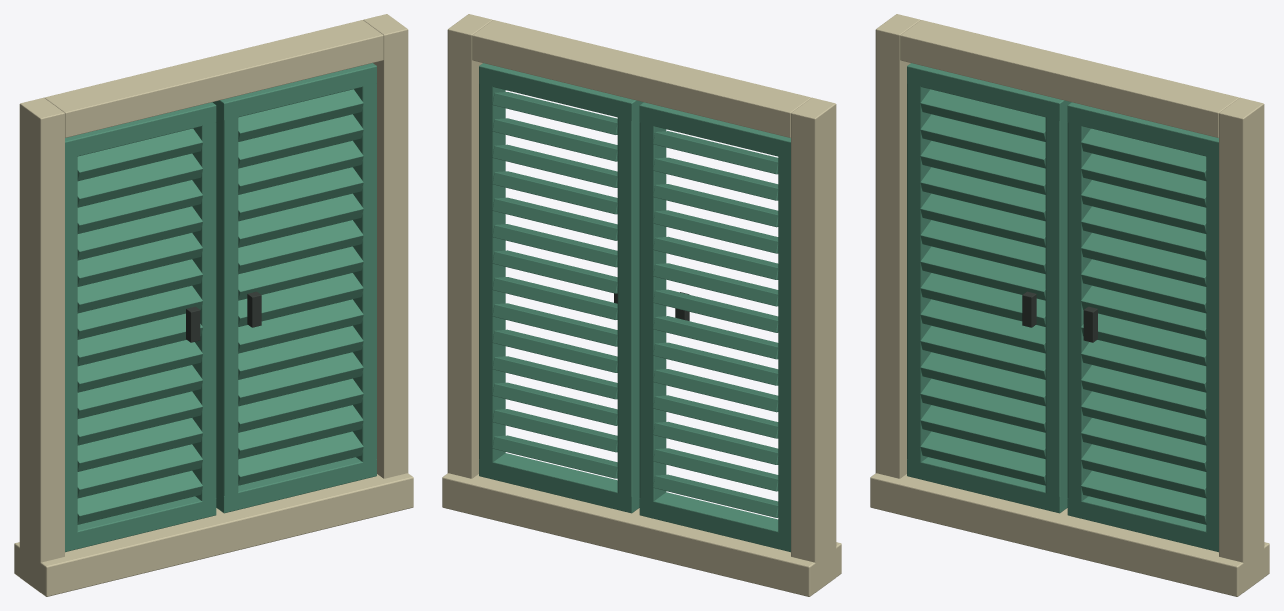
3 views of the same model, side by side, from view 1: azimuth 30°, elevation 25°; view 2: azimuth 150°, elevation 25°; view 3: azimuth 330°, elevation 25° (orthographic).
Visible parts, largest first — view 1: FRAME_Jamb, FRAME_Sill, FRAME_Head, FRAME_Jamb.001, Right_Stile.001, Right_Stile, Left_Stile.001, Left_Stile, Left_Rail, Right_Rail, Left_Rail.001, Left_Louver_12 (+28 smaller); view 2: FRAME_Jamb, FRAME_Sill, FRAME_Head, FRAME_Jamb.001, Right_Stile.001, Left_Stile.001, Right_Stile, Left_Stile, Right_Rail, Left_Rail, Right_Rail.001, Left_Rail.001 (+28 smaller); view 3: FRAME_Jamb.001, FRAME_Sill, FRAME_Head, FRAME_Jamb, Left_Stile.001, Left_Stile, Right_Stile.001, Right_Stile, Left_Rail, Right_Rail, Left_Rail.001, Right_Rail.001 (+28 smaller).
Boxes of the visible parts, bbox=[...] form: FRAME_Jamb: bbox=[19, 97, 64, 592]; FRAME_Sill: bbox=[14, 473, 413, 596]; FRAME_Head: bbox=[44, 20, 383, 137]; FRAME_Jamb.001: bbox=[363, 14, 408, 478]; Right_Stile.001: bbox=[212, 100, 238, 511]; Right_Stile: bbox=[353, 67, 376, 478]; Left_Stile.001: bbox=[192, 107, 216, 514]; Left_Stile: bbox=[65, 140, 77, 535]; Left_Rail: bbox=[65, 496, 216, 552]; Right_Rail: bbox=[216, 457, 376, 513]; Left_Rail.001: bbox=[65, 102, 216, 158]; Left_Louver_12: bbox=[77, 153, 202, 207]; FRAME_Jamb: bbox=[791, 97, 836, 592]; FRAME_Sill: bbox=[442, 473, 841, 596]; FRAME_Head: bbox=[472, 20, 811, 137]; FRAME_Jamb.001: bbox=[447, 14, 492, 478]; Right_Stile.001: bbox=[617, 100, 643, 511]; Left_Stile.001: bbox=[639, 108, 666, 514]; Right_Stile: bbox=[479, 67, 505, 478]; Left_Stile: bbox=[778, 140, 790, 549]; Right_Rail: bbox=[479, 453, 639, 513]; Left_Rail: bbox=[639, 492, 790, 552]; Right_Rail.001: bbox=[479, 63, 636, 120]; Left_Rail.001: bbox=[639, 102, 790, 158]; FRAME_Jamb.001: bbox=[1219, 97, 1264, 592]; FRAME_Sill: bbox=[870, 473, 1269, 596]; FRAME_Head: bbox=[900, 20, 1239, 137]; FRAME_Jamb: bbox=[875, 14, 920, 478]; Left_Stile.001: bbox=[1045, 100, 1071, 511]; Left_Stile: bbox=[907, 67, 930, 478]; Right_Stile.001: bbox=[1067, 108, 1091, 514]; Right_Stile: bbox=[1206, 140, 1218, 549]; Left_Rail: bbox=[907, 457, 1067, 513]; Right_Rail: bbox=[1067, 496, 1218, 552]; Left_Rail.001: bbox=[907, 63, 1064, 120]; Right_Rail.001: bbox=[1067, 102, 1218, 158].
Size of the model in its own units: 1.5 by 1.85 by 0.23.
